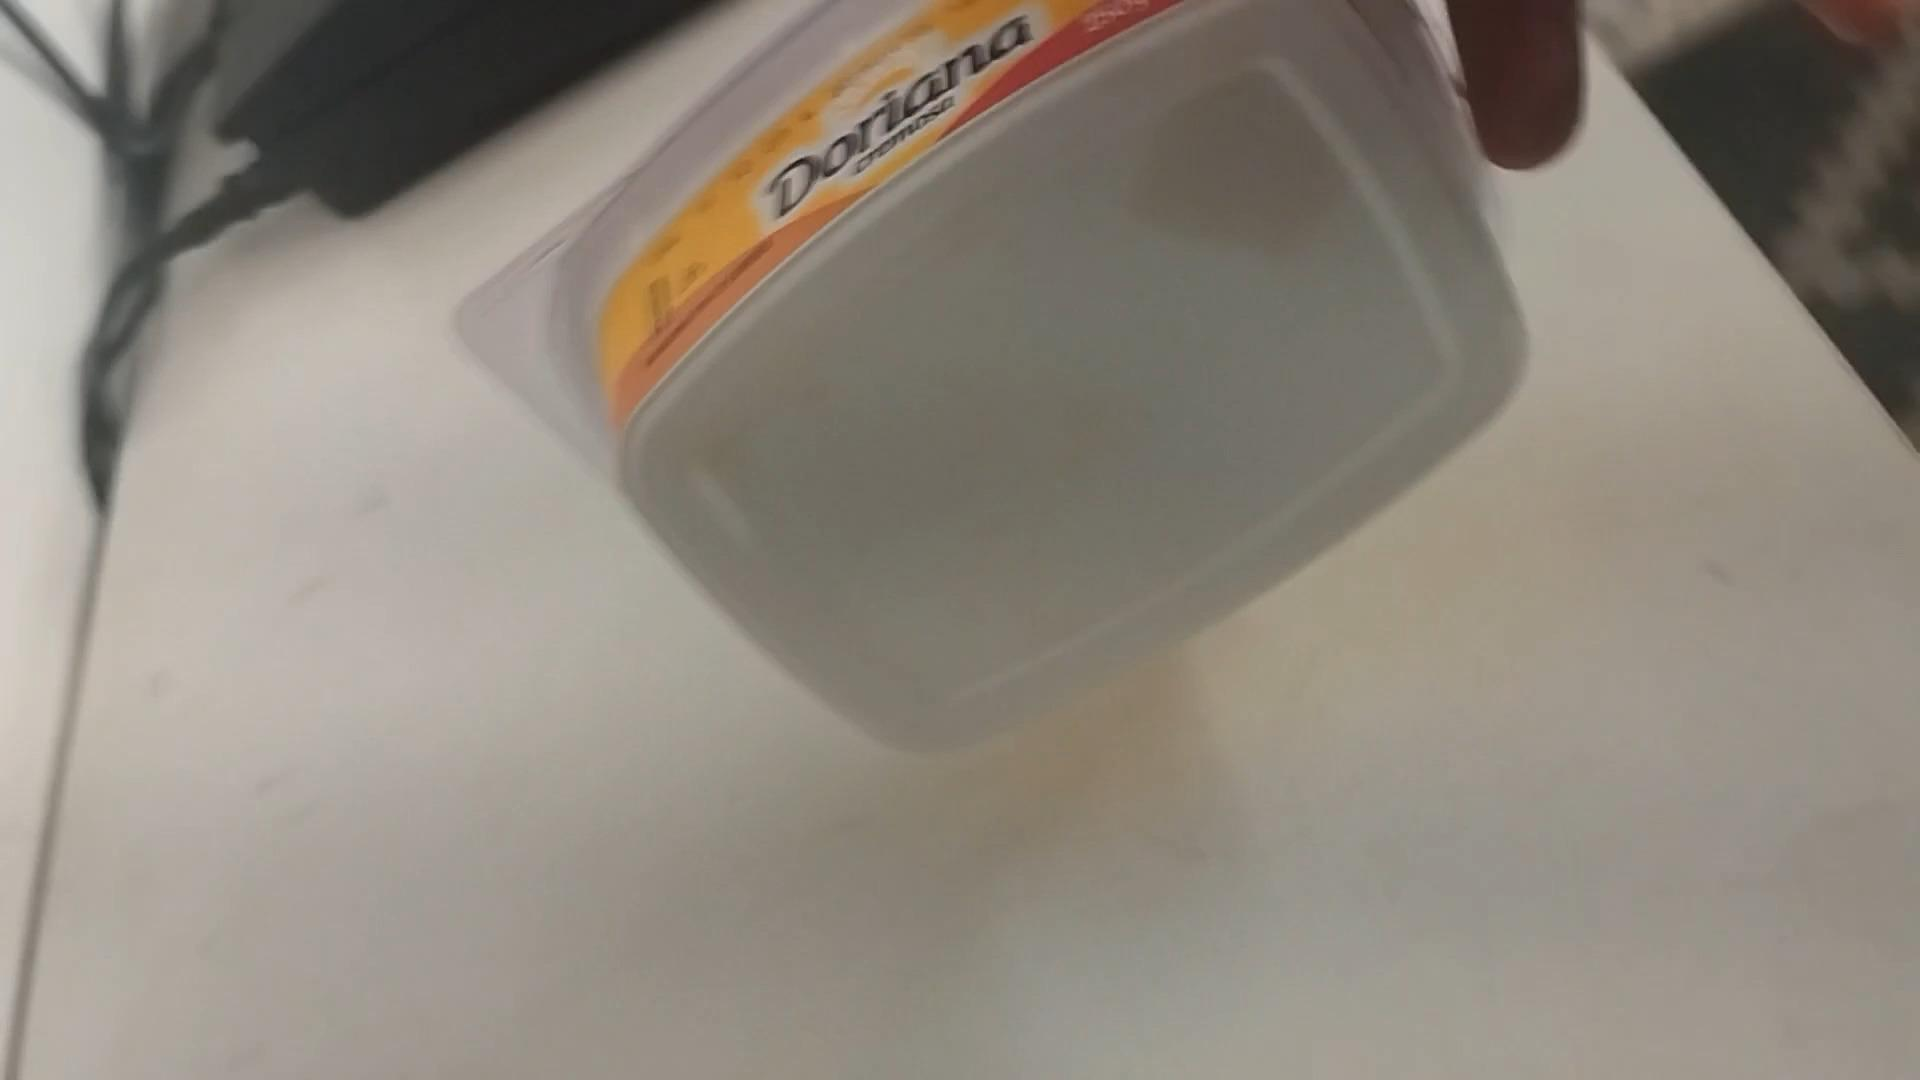butter: (444, 3, 1520, 754)
